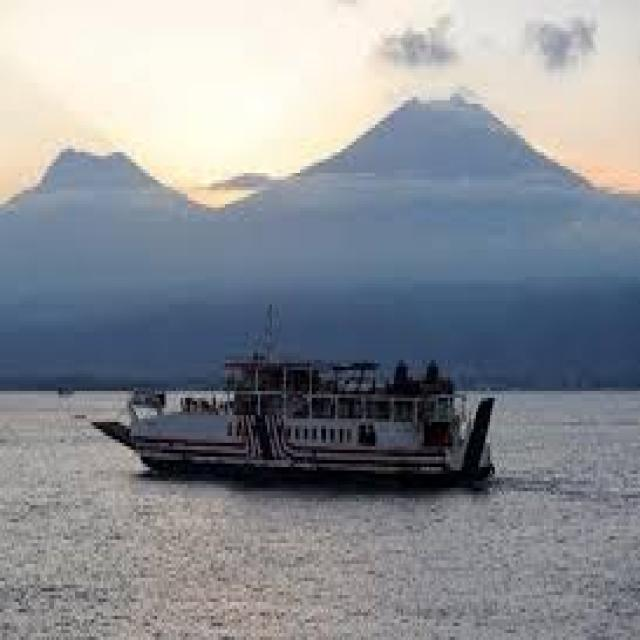houseboat: (86, 353, 495, 502)
